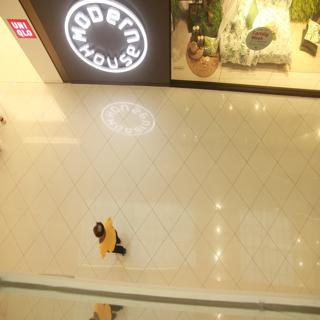person: (83, 213, 136, 262)
